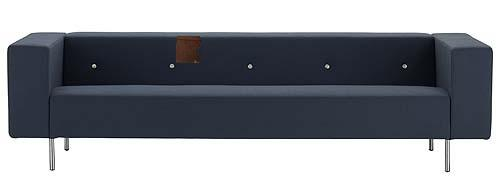tampered: (177, 37, 201, 63)
